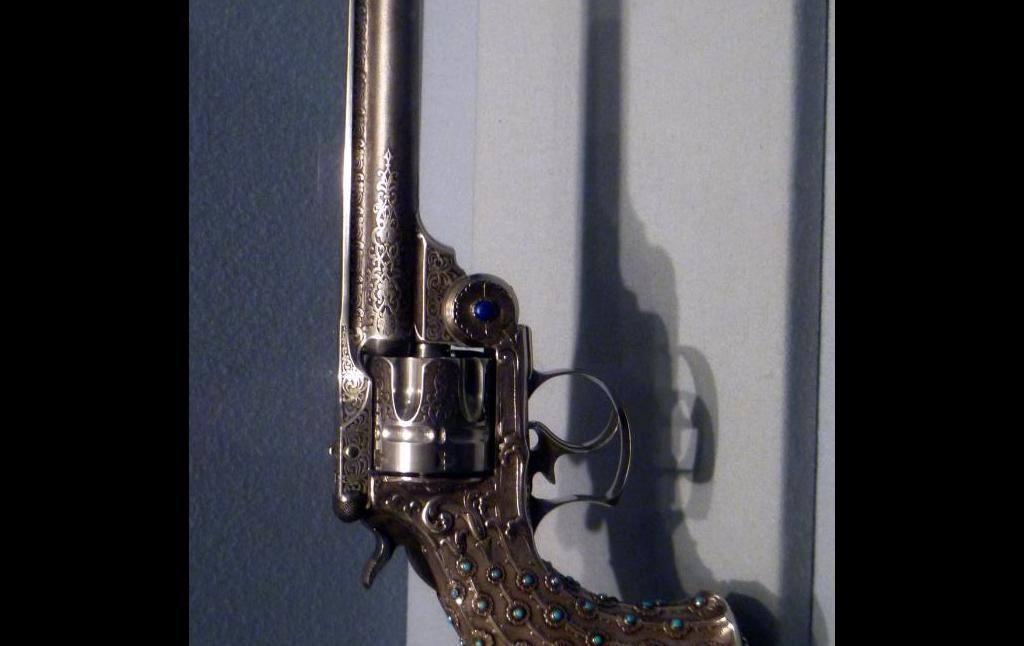gun: (325, 0, 779, 646)
